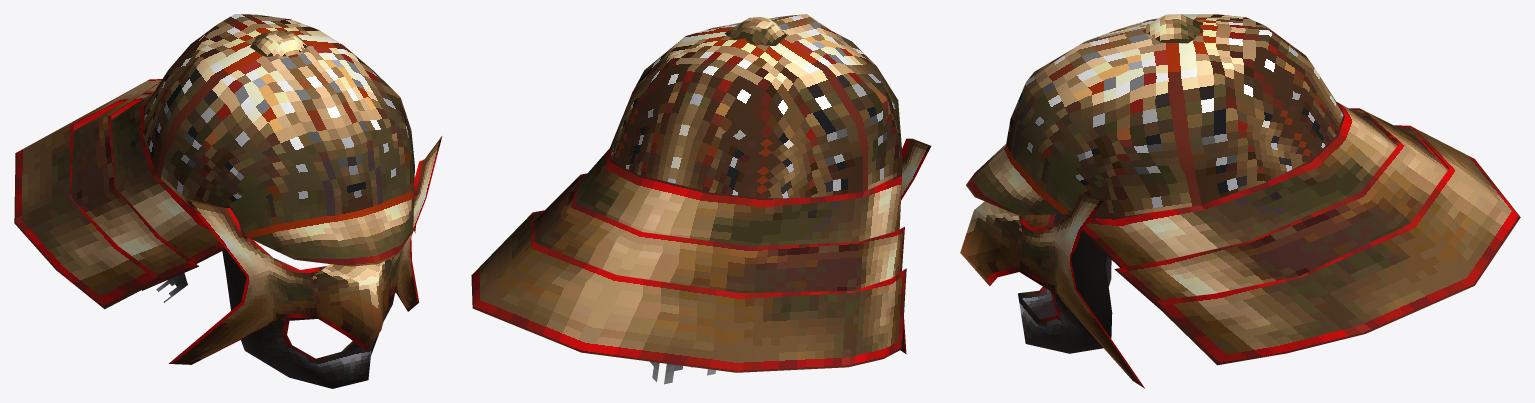
File: m_hair155.glb
The picture shows the model from 3 angles, left to right: view 1: azimuth 30°, elevation 25°; view 2: azimuth 150°, elevation 25°; view 3: azimuth 270°, elevation 25°; orthographic projection. The views are drawn at different scales.
Size of the model in its own units: 28.1 by 23.75 by 36.77.
Materials: 1 (1 with a texture image).
